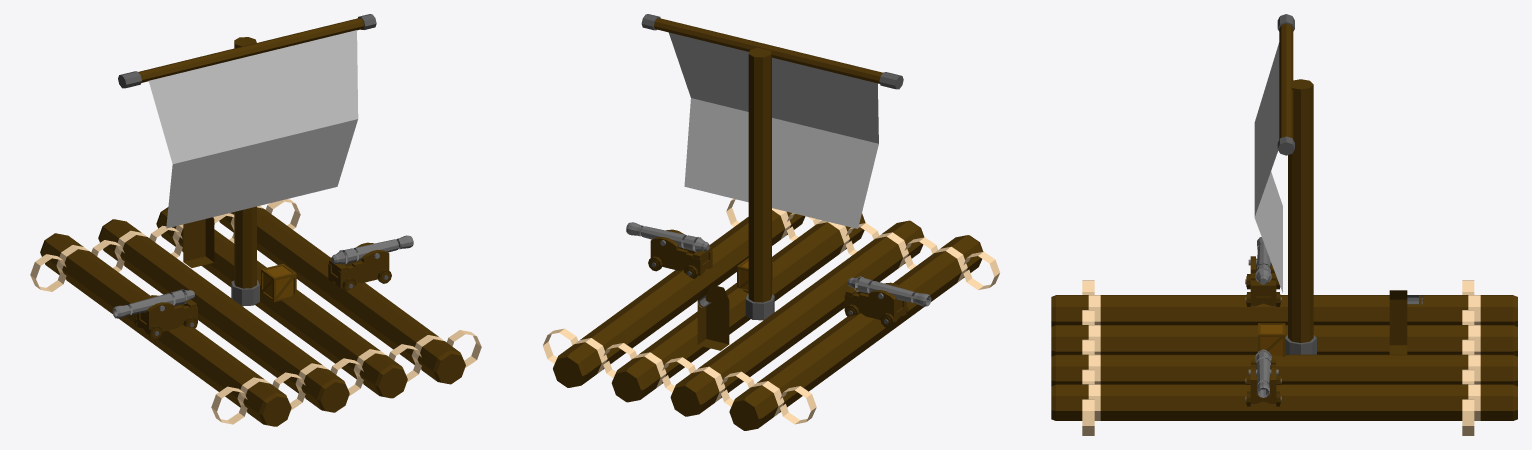
The model's file is Raft_Mod.fbx.
3 views of the same model, side by side, from view 1: azimuth 30°, elevation 25°; view 2: azimuth 150°, elevation 25°; view 3: azimuth 270°, elevation 25° (orthographic). The views are drawn at different scales.
Visible parts, largest first — view 1: Cylinder.024, Plane.025, Cylinder.025, Cylinder.003; view 2: Cylinder.024, Plane.025, Cylinder.025, Cylinder.003; view 3: Cylinder.024, Cylinder.025, Plane.025, Cylinder.003.
Part boxes in pixels (left/top/right/bottom): Cylinder.024: left=30, top=199, right=481, bottom=426; Plane.025: left=148, top=30, right=358, bottom=228; Cylinder.025: left=118, top=14, right=376, bottom=306; Cylinder.003: left=112, top=235, right=413, bottom=339; Cylinder.024: left=543, top=199, right=1000, bottom=430; Plane.025: left=668, top=32, right=878, bottom=228; Cylinder.025: left=641, top=14, right=903, bottom=320; Cylinder.003: left=626, top=222, right=931, bottom=327; Cylinder.024: left=1051, top=280, right=1517, bottom=435; Cylinder.025: left=1277, top=14, right=1316, bottom=354; Plane.025: left=1254, top=42, right=1282, bottom=292; Cylinder.003: left=1245, top=237, right=1281, bottom=406.
Bounding box in the file's own units: 1580 × 1437 × 2085.
